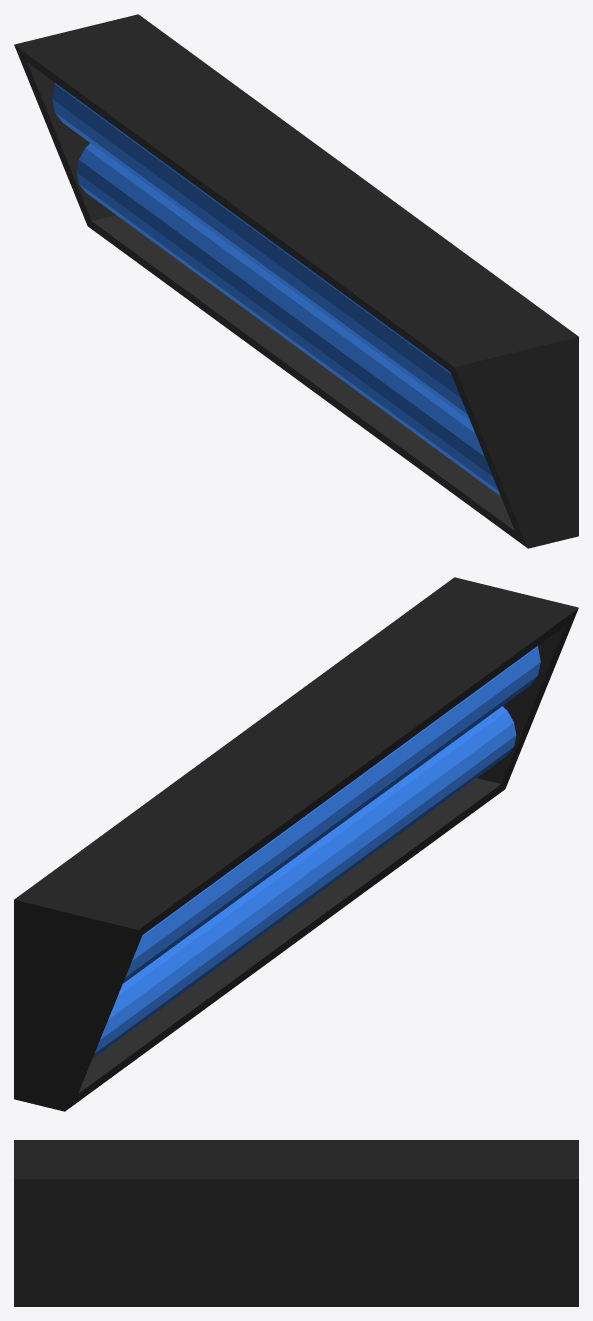
Rendered from Rurki.obj.
3 views of the same model, one above another, from view 1: azimuth 30°, elevation 25°; view 2: azimuth 150°, elevation 25°; view 3: azimuth 270°, elevation 25° (orthographic). The views are drawn at different scales.
Parts seen in each view (by area): view 1: Rurki.NR1_Cube.032; view 2: Rurki.NR1_Cube.032; view 3: Rurki.NR1_Cube.032.
Boxes of the visible parts, x1=… form: Rurki.NR1_Cube.032: x1=14, y1=14, x2=578, y2=548; Rurki.NR1_Cube.032: x1=14, y1=577, x2=578, y2=1111; Rurki.NR1_Cube.032: x1=14, y1=1140, x2=578, y2=1306.
Size of the model in its own units: 1.63 by 2.5 by 10.
1 material, 1 textured.
